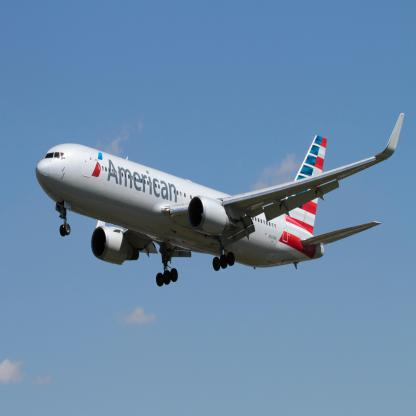CIV_Plane: (32, 109, 408, 297)
